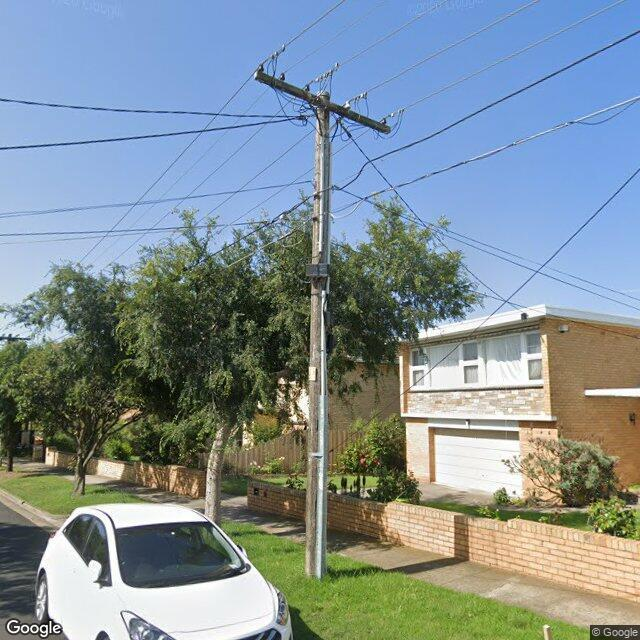crossarm: (254, 70, 390, 134), (0, 336, 30, 340)
timber-pole: (305, 91, 331, 580)
